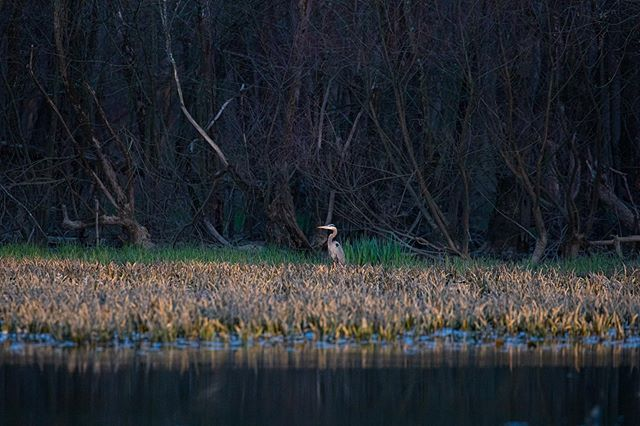animal: (311, 220, 349, 271)
grass: (1, 244, 630, 335)
river: (4, 339, 640, 426)
vegetation: (17, 1, 640, 236)
